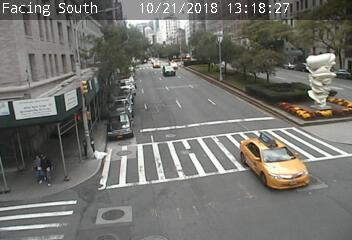car: (241, 138, 309, 190)
